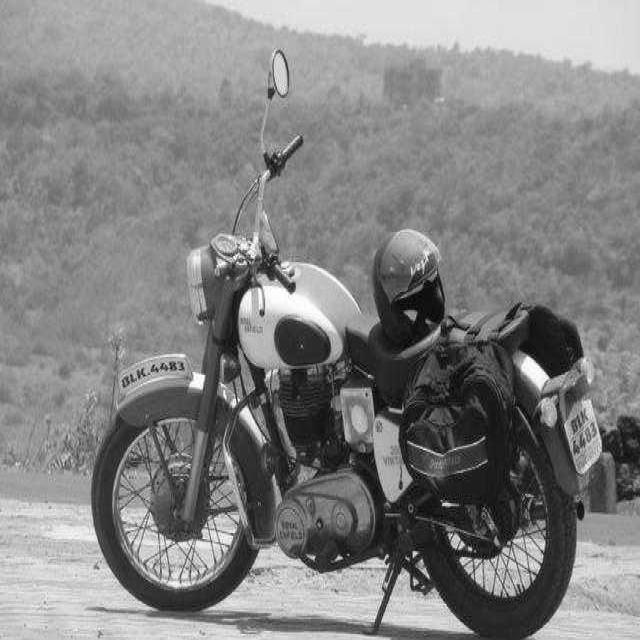Motorcycle: (91, 136, 600, 636)
